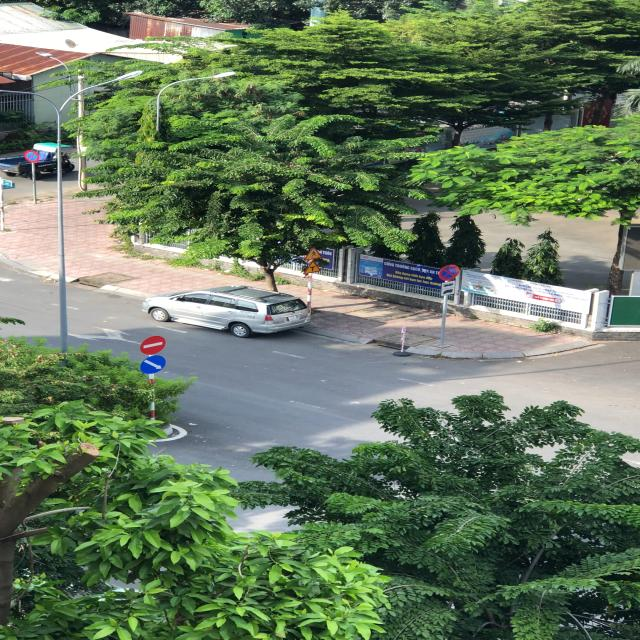Bien bao cam di nguoc chieu: (137, 332, 172, 356)
Bien bao cam dung xe va do xe: (437, 264, 462, 280)
Bien bao duong giao nhau: (299, 260, 324, 275)
Bien bao duong nguoi di bo cat ngang: (304, 247, 325, 260)
Bien bao huong phai di vong chuong ngai vat: (137, 355, 172, 375)
